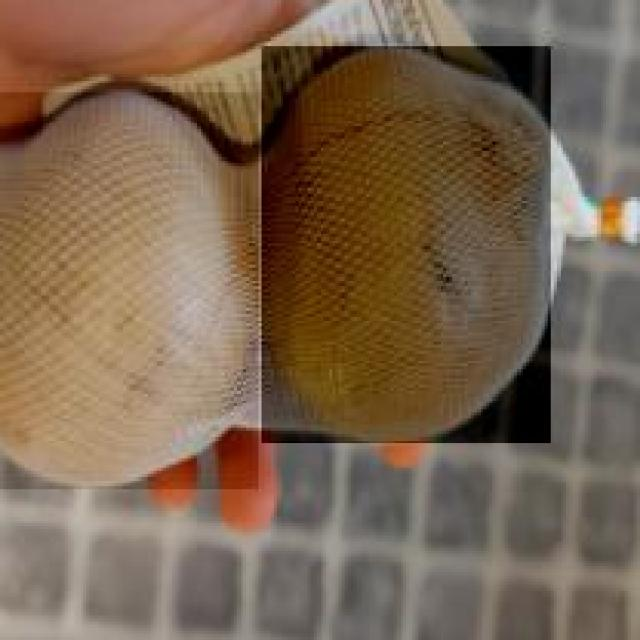onion: (258, 43, 551, 443), (0, 89, 258, 489)
